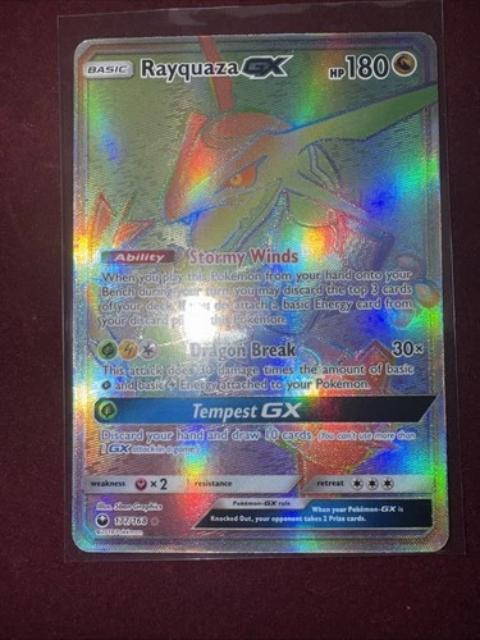Card: (67, 27, 457, 556)
Name: (133, 49, 296, 87)
